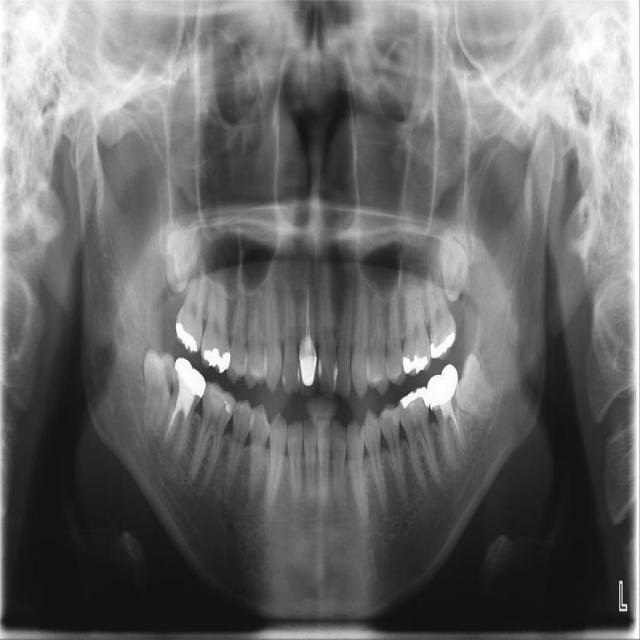Caries: (167, 364, 178, 393)
Crown: (425, 364, 459, 411), (173, 358, 207, 402), (299, 357, 319, 391)
Filling: (430, 328, 456, 363), (403, 351, 432, 379), (175, 320, 199, 351), (201, 348, 230, 371), (400, 388, 431, 408), (214, 393, 234, 412)
Root Canal Treatment: (165, 408, 177, 439), (454, 415, 464, 447), (176, 419, 185, 453), (305, 291, 307, 340)
impacted tooth: (164, 224, 203, 294), (456, 353, 497, 416), (144, 354, 174, 435), (439, 228, 467, 301)
